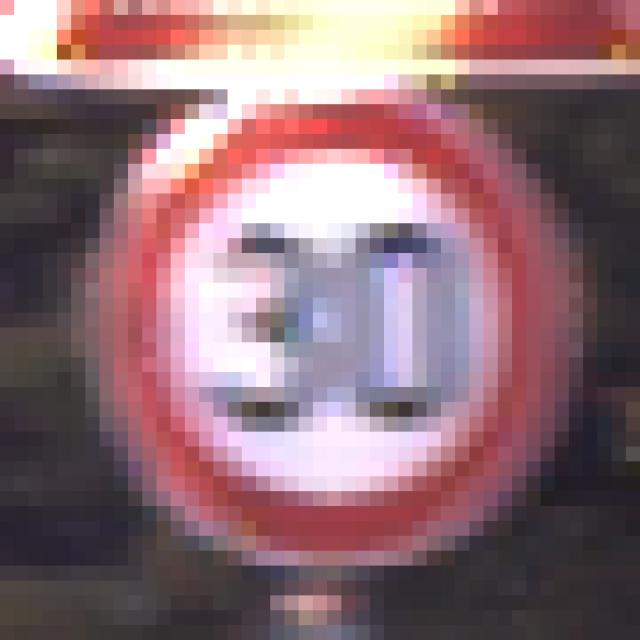Speed Limit -30-: (64, 67, 548, 558)
